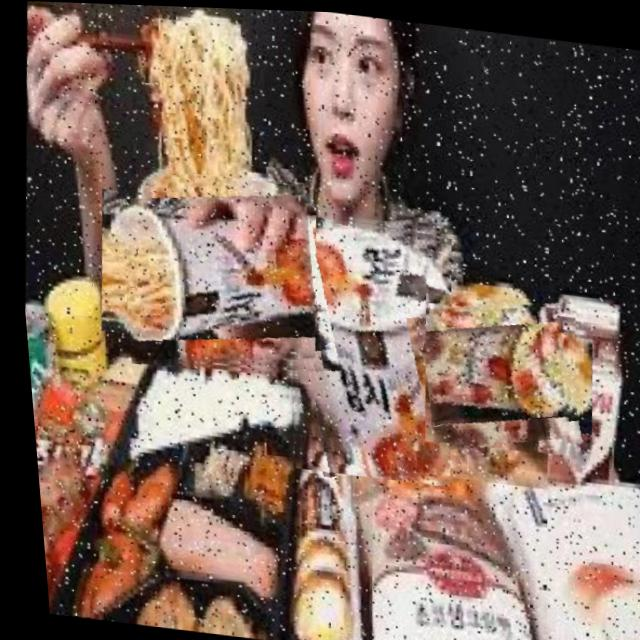Miscellaneous: (262, 205, 464, 484), (100, 162, 325, 380), (408, 288, 581, 456)
